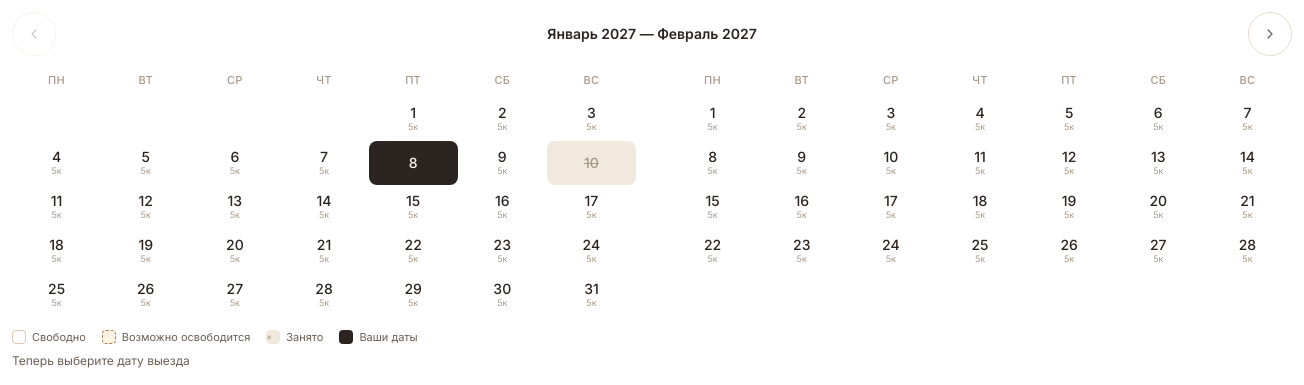
StayCalendar › says why a range is refused and keeps the selection
The width and height of the screenshot is (1304, 385).
Click the button named ", 12 января,".
click(146, 206)  # box [101,184,190,228]
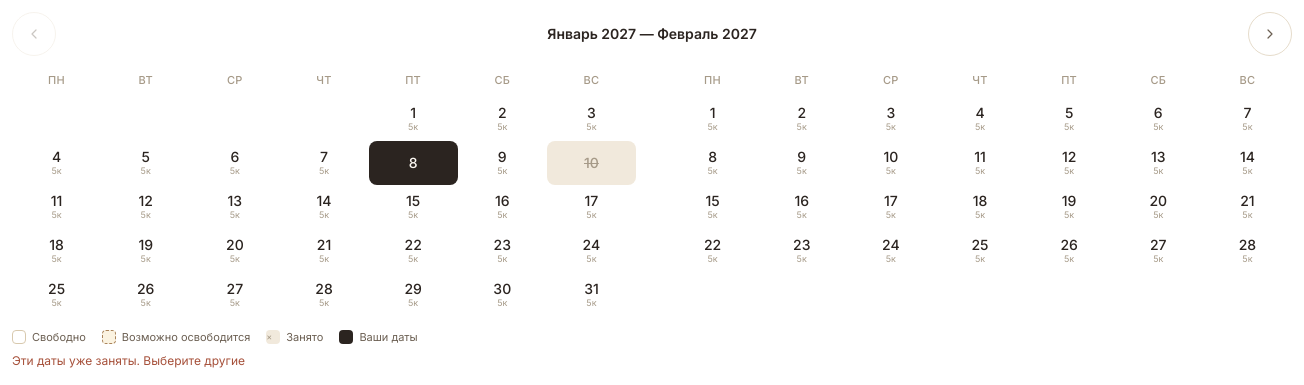
Result: the message reads "Эти даты уже заняты. Выберите другие" at [12,353,245,368]
